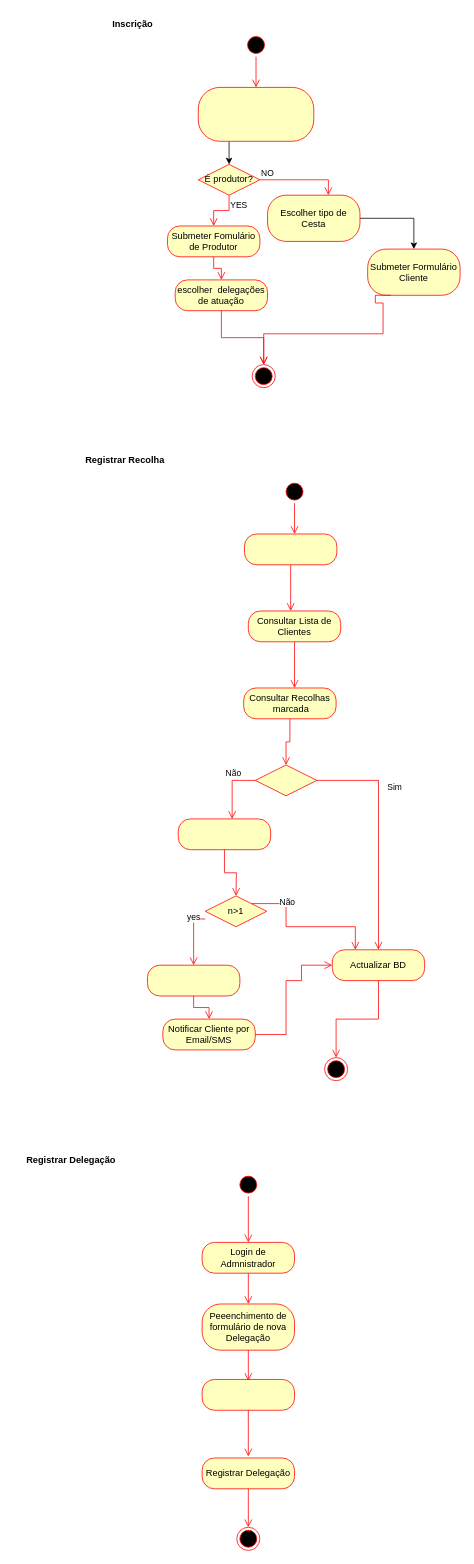
Some shapes in this 474 by 1564 pixel diagram are drawn without their labels. The centre of each missing label's shape, as x and y in pixels:
Actualizar estado para "Inactivo": [193,980]
Consultar nº de Recolhas faltadas: [224,834]
Login Admnistrador: [290,549]
Preencher o formulário de acordo com o seu tipo: [256,114]
Recolhido?: [285,780]
Submissão de formulário: [248,1394]
